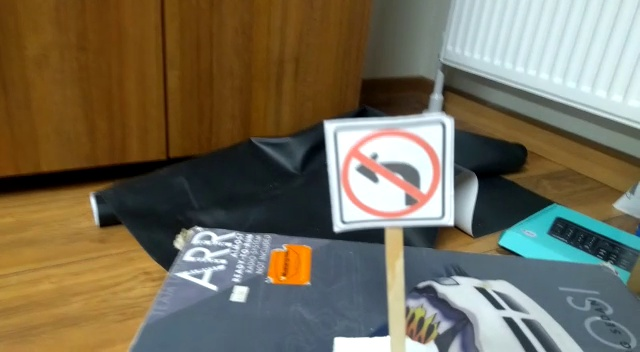sola_donulmez: (339, 126, 442, 228)
